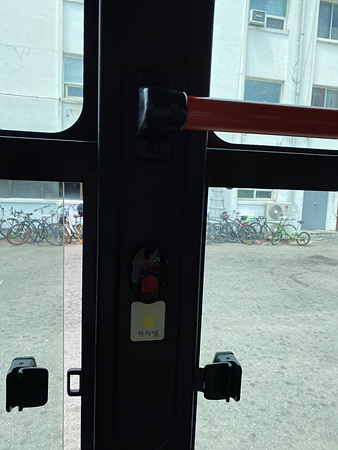bell: (132, 262, 166, 304)
